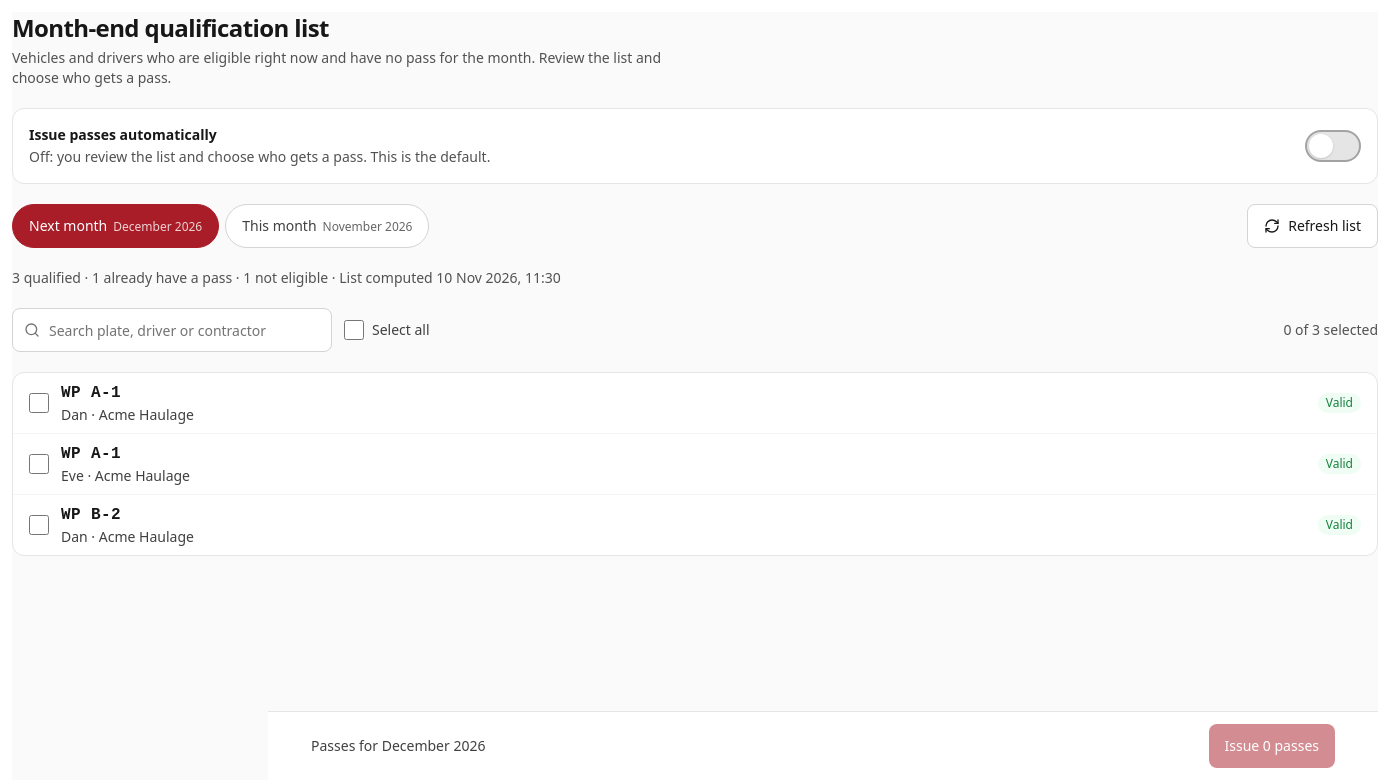
QualificationPage (month-end list) › has individual toggles and select all, and the button counts the selection
Check: the button "Issue 0 passes" is disabled, box [1208,724,1335,768]
Click the checkbox named "Select WP A-1 with Dan" at (39, 403), box [29,393,49,413]
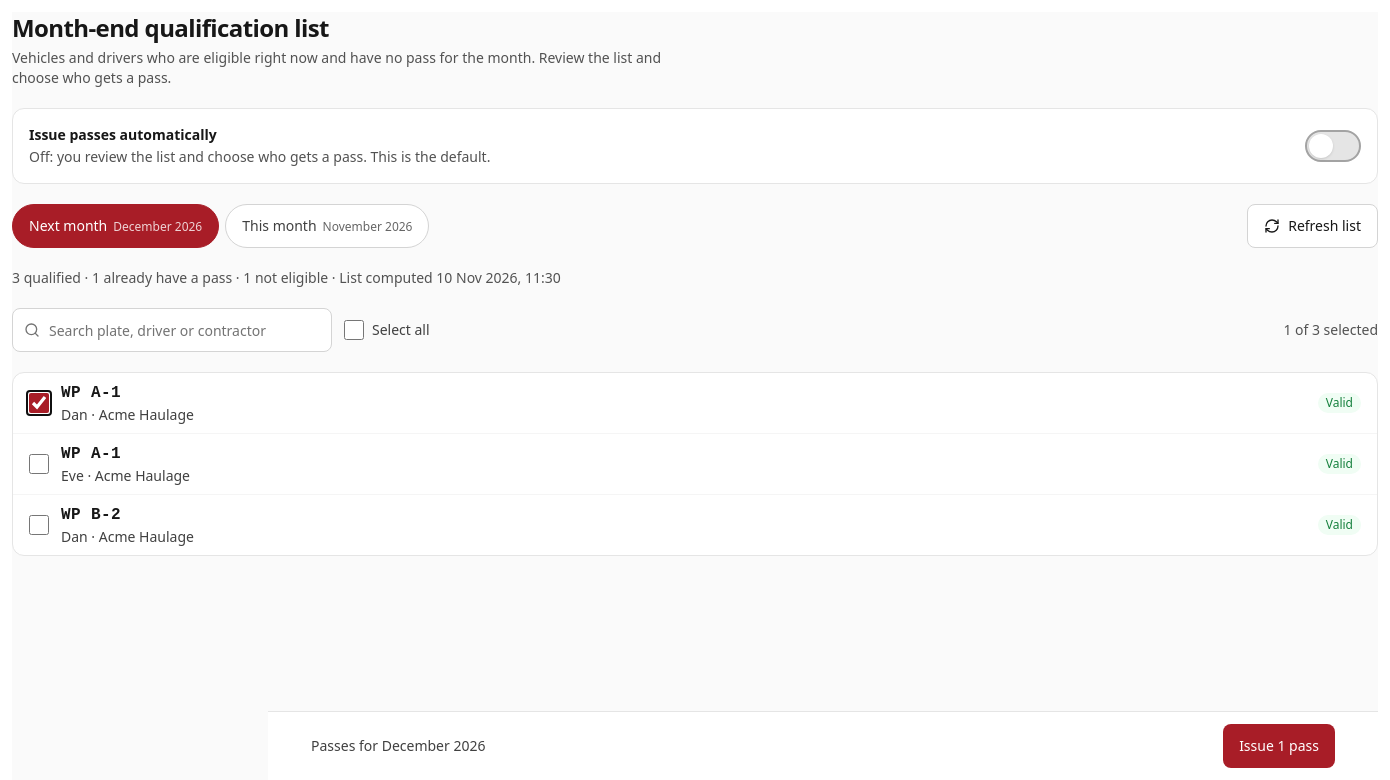
Check: the button "Issue 1 pass" is shown, box [1223,724,1335,768]
Click the checkbox labelled "Select all" at (354, 330), box [344,320,364,340]
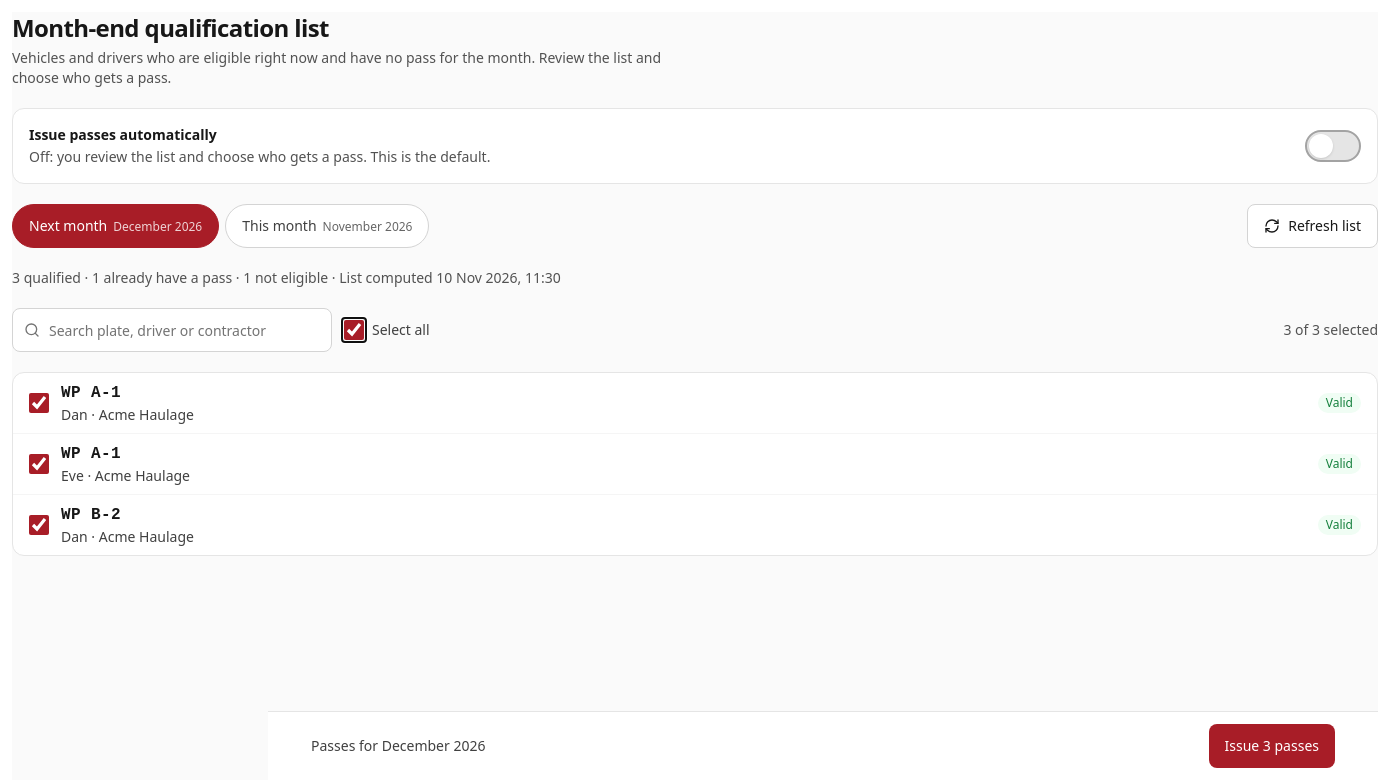
Check: the checkbox labelled "Select all" is checked
Check: the button "Issue 3 passes" is shown, box [1208,724,1335,768]
Click the checkbox labelled "Select all" at (354, 330), box [344,320,364,340]
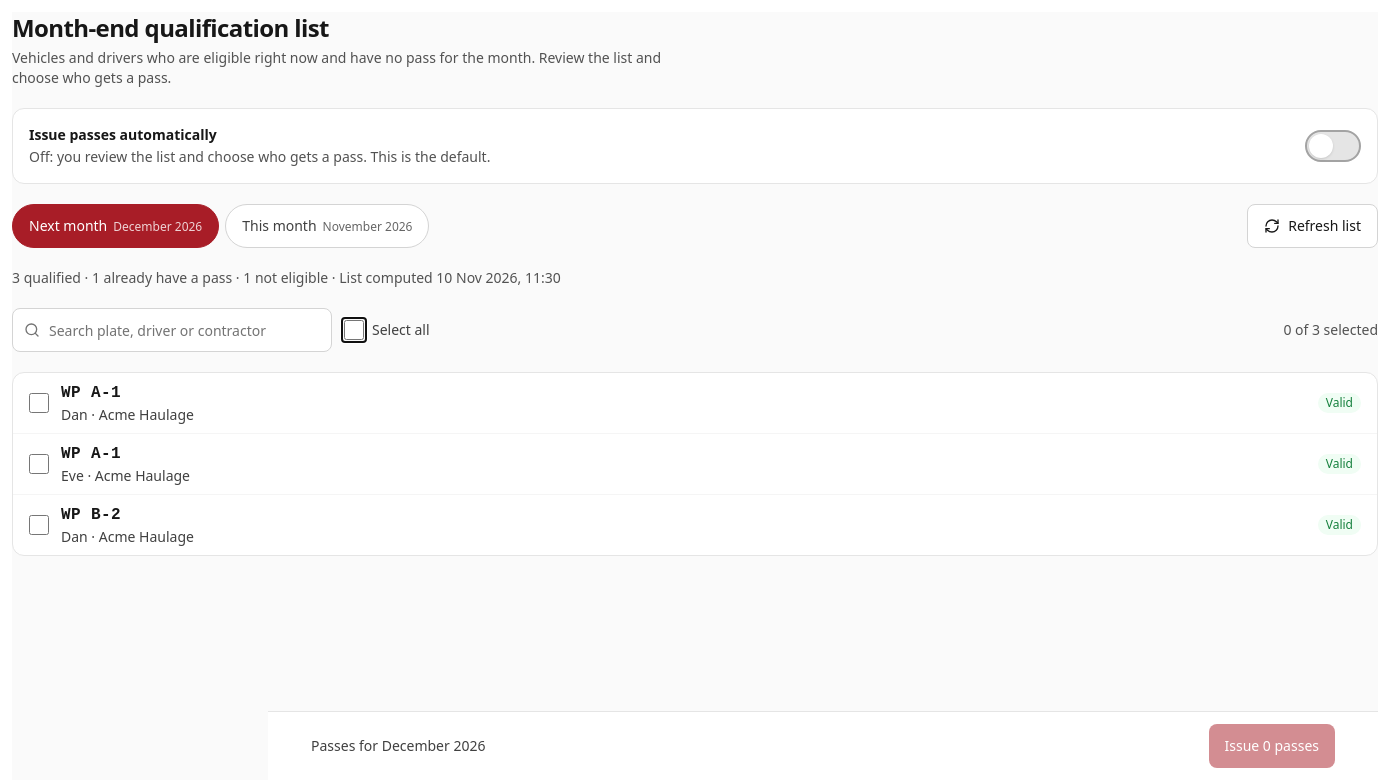
Check: the button "Issue 0 passes" is disabled, box [1208,724,1335,768]
